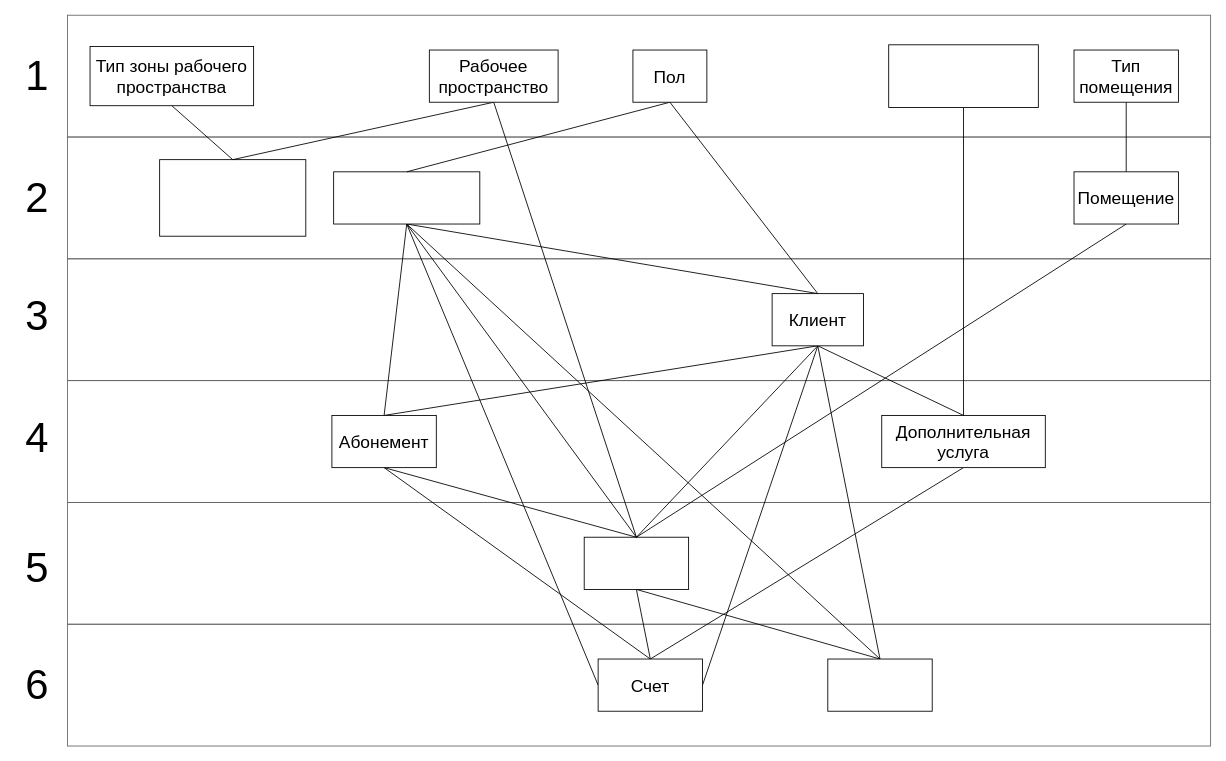
Some shapes in this 1226 by 761 pixel diagram are drawn without their labels. Here are the shapes that lost their labels. From the top down, the box of each, then its label:
(888, 44, 1038, 107): Вид дополнительной услуги
(159, 159, 306, 236): Структура рабочего пространства
(333, 171, 480, 224): Администратор
(583, 536, 689, 589): Договор об аренде
(827, 658, 932, 711): Визит
